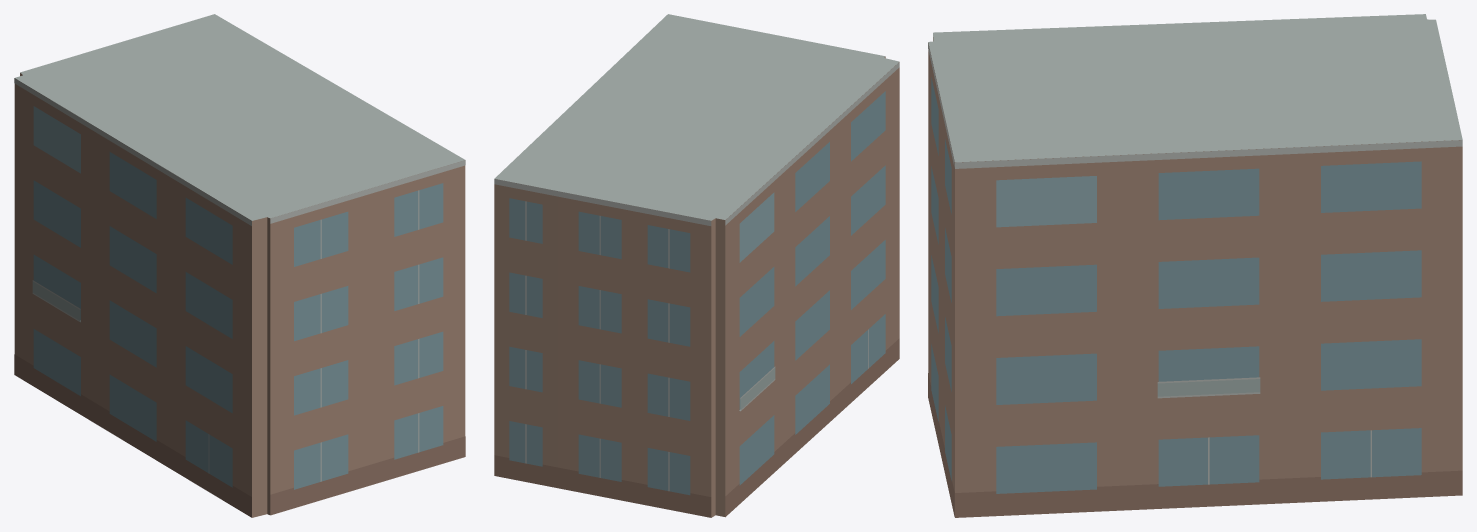
The model's file is survey-upis-32631021.glb.
The picture shows the model from 3 angles, left to right: view 1: azimuth 30°, elevation 25°; view 2: azimuth 150°, elevation 25°; view 3: azimuth 270°, elevation 25°; orthographic projection. The views are drawn at different scales.
Parts seen in each view (by area): view 1: survey-upis-32631021.tmp; view 2: survey-upis-32631021.tmp; view 3: survey-upis-32631021.tmp.
Boxes of the visible parts, x1,y1,x2,y2 form: survey-upis-32631021.tmp: [14, 14, 465, 517]; survey-upis-32631021.tmp: [494, 14, 899, 517]; survey-upis-32631021.tmp: [928, 14, 1462, 517].
Bounding box in the file's own units: 11.83 × 13.2 × 18.
